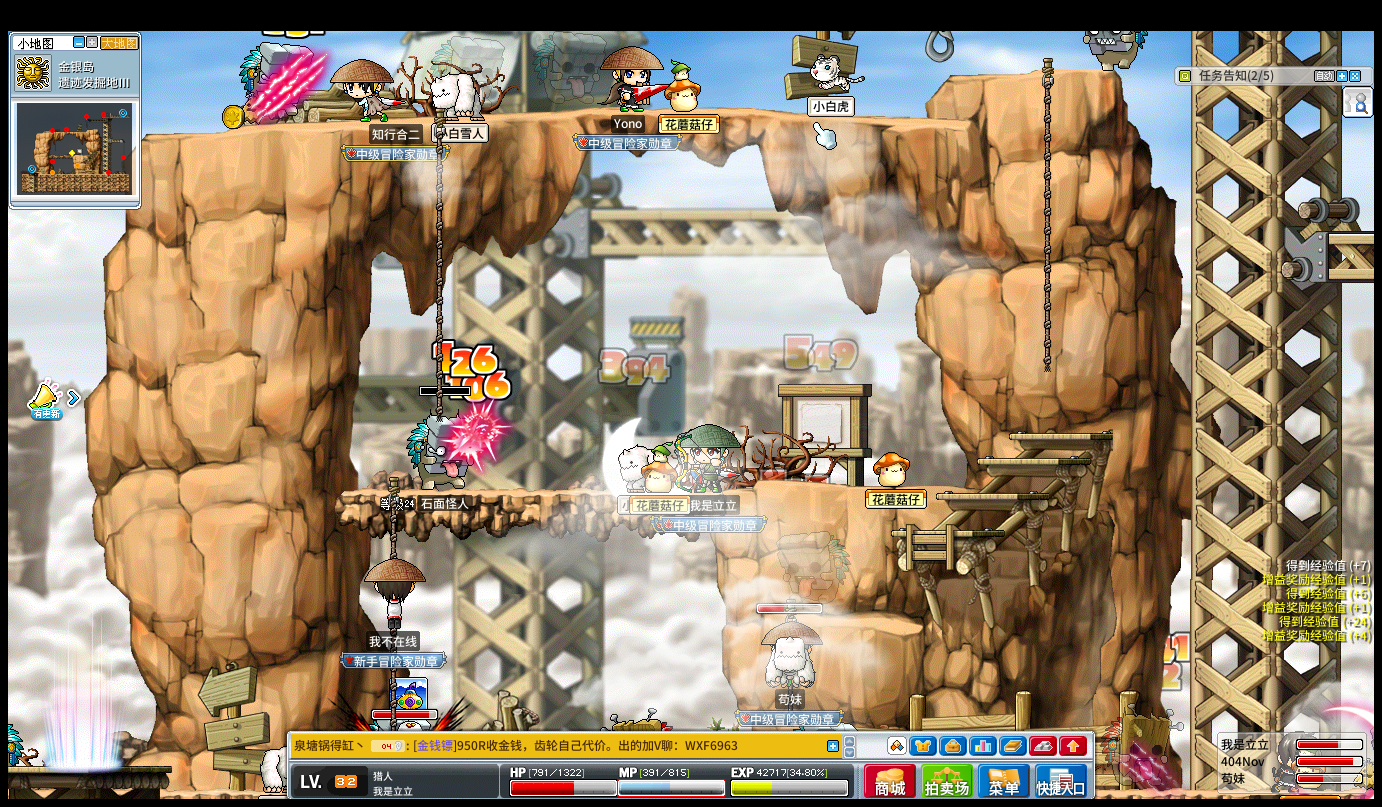floor: (147, 102, 991, 134), (340, 487, 720, 499), (810, 613, 923, 634), (950, 67, 1118, 80), (952, 65, 1117, 78), (758, 481, 967, 491), (1009, 429, 1113, 442), (820, 482, 965, 490), (935, 491, 1047, 500), (885, 529, 995, 538), (887, 528, 1003, 536), (973, 456, 1088, 464), (1321, 229, 1381, 240)
monster: (406, 412, 497, 490), (778, 530, 851, 614), (1103, 706, 1176, 788), (239, 40, 309, 124), (534, 30, 603, 111), (405, 414, 456, 489), (1086, 28, 1141, 70), (1, 716, 24, 797)
rope: (1040, 56, 1053, 385), (433, 111, 444, 454), (434, 105, 445, 353), (385, 480, 399, 559)
